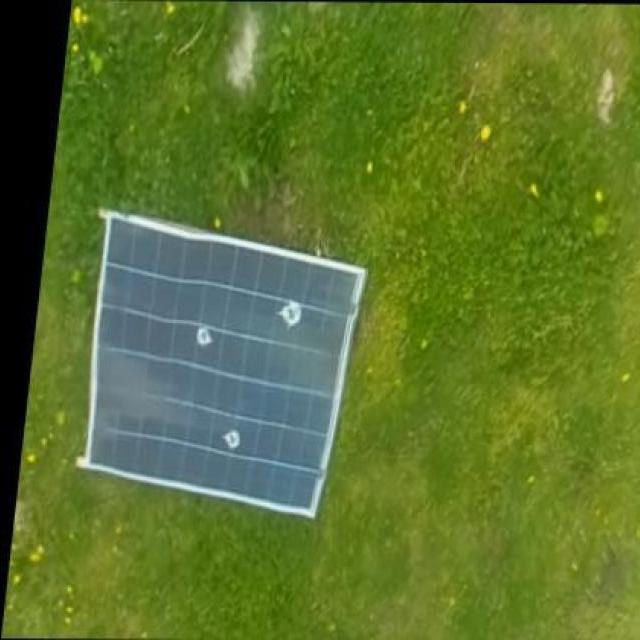soiled: (82, 203, 374, 516)
